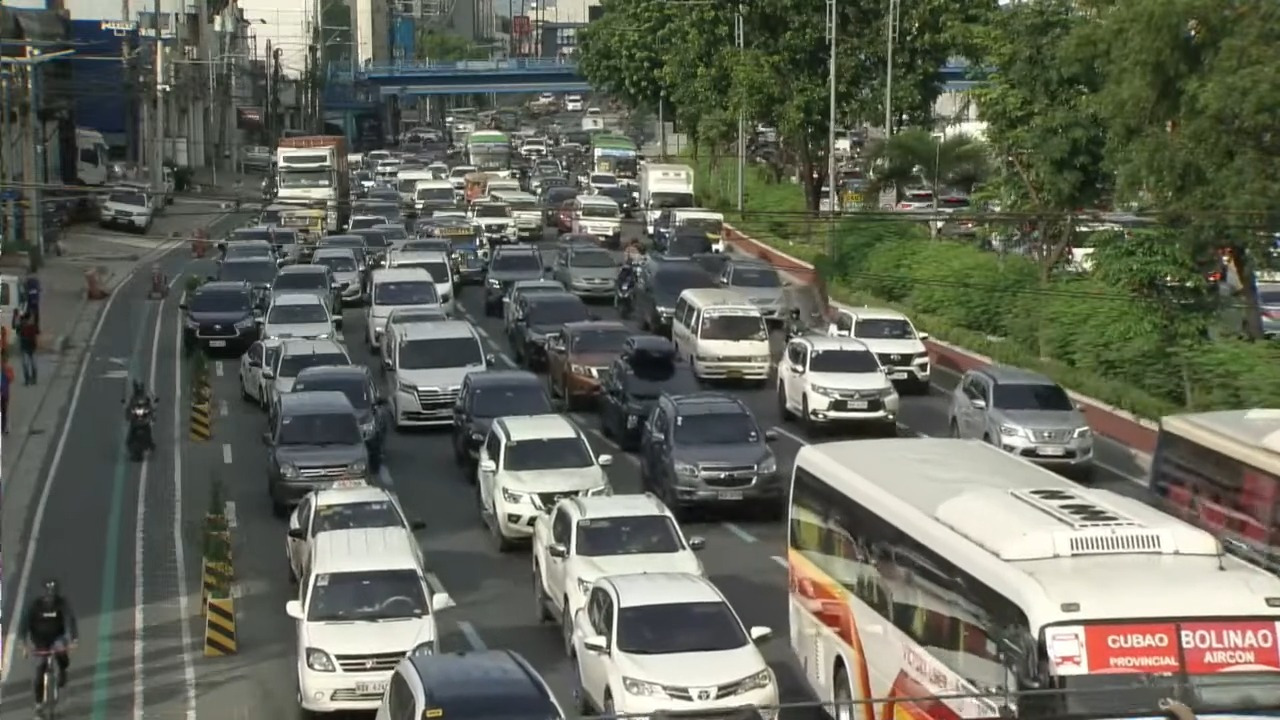bus: (787, 438, 1279, 719), (1149, 409, 1279, 573), (591, 133, 638, 178)
car: (285, 528, 453, 713), (572, 573, 778, 716), (531, 493, 704, 653), (477, 414, 611, 551), (638, 392, 786, 516), (948, 365, 1093, 480), (374, 648, 565, 719), (286, 484, 424, 582), (263, 392, 368, 516), (777, 335, 899, 435), (597, 335, 699, 450), (383, 320, 492, 427), (452, 370, 553, 478), (293, 365, 387, 469), (827, 307, 930, 393), (546, 321, 631, 410), (631, 257, 716, 336), (261, 339, 351, 411), (365, 268, 443, 351), (508, 293, 593, 369), (180, 281, 260, 351), (712, 253, 784, 320), (270, 264, 340, 327), (387, 250, 455, 313), (484, 245, 545, 315), (501, 279, 568, 332), (379, 305, 450, 355), (552, 246, 618, 298), (262, 292, 336, 338), (215, 255, 278, 304), (238, 339, 282, 409), (312, 245, 362, 305), (218, 225, 298, 261), (346, 228, 392, 285), (530, 169, 576, 224), (99, 189, 153, 232), (312, 233, 368, 272), (469, 201, 516, 245), (502, 191, 542, 241), (538, 178, 578, 227), (353, 188, 402, 226), (655, 227, 715, 258), (414, 216, 482, 243), (450, 244, 486, 285), (595, 185, 636, 218), (219, 240, 274, 262), (690, 251, 733, 276), (370, 221, 409, 246), (238, 145, 274, 172), (398, 237, 452, 252), (347, 216, 387, 230), (588, 173, 617, 190), (564, 94, 584, 111)
motorcycle: (126, 402, 154, 462), (614, 267, 635, 318)
truck: (275, 135, 349, 231), (638, 163, 695, 235), (465, 130, 512, 174), (76, 127, 110, 185)
